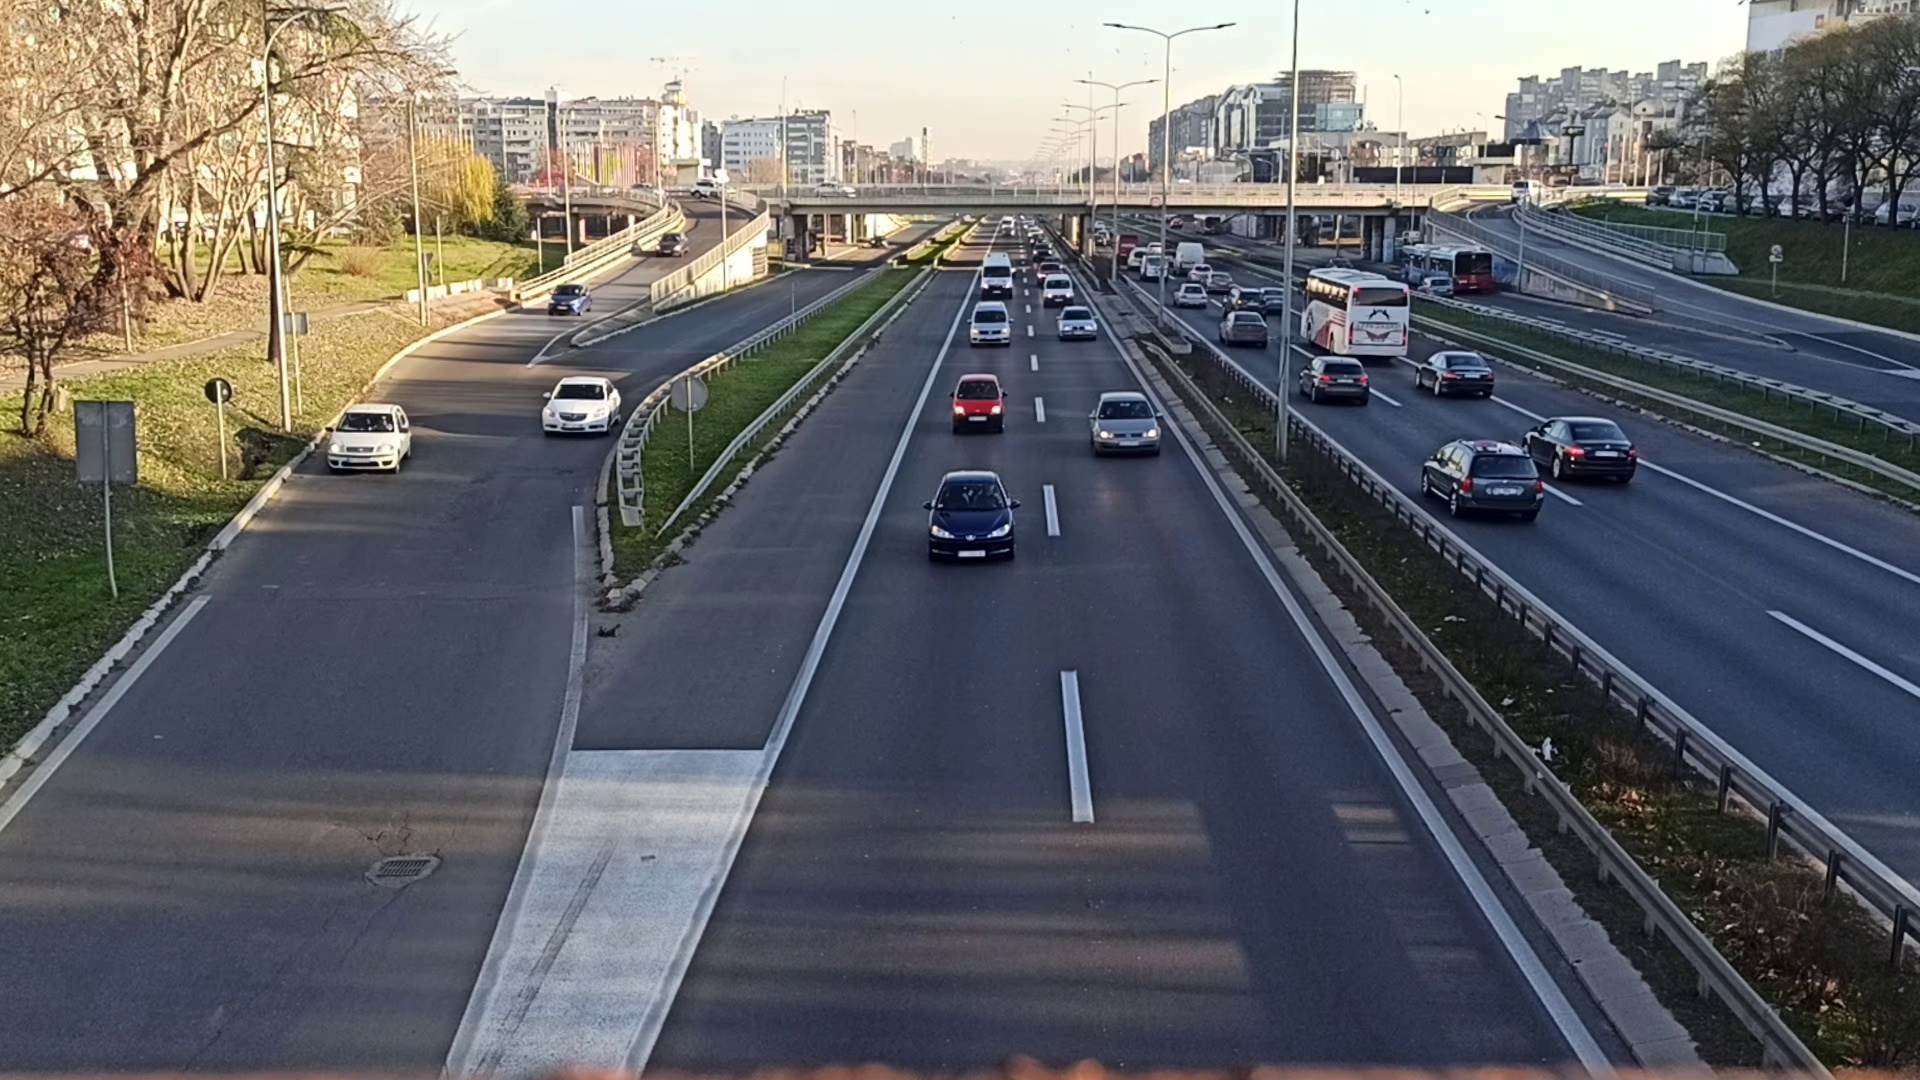car: (923, 469, 1021, 560), (324, 400, 418, 475), (539, 371, 618, 438), (1091, 390, 1162, 458), (949, 375, 1010, 433), (545, 281, 589, 320), (973, 305, 1010, 347), (1055, 309, 1098, 343)
van: (981, 253, 1013, 293)
